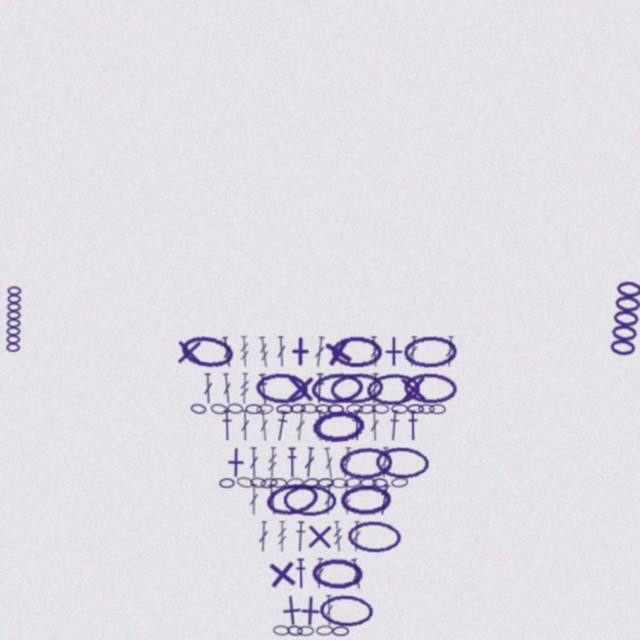chain: (264, 480, 320, 519), (179, 333, 236, 371), (329, 371, 385, 406), (310, 371, 365, 406), (338, 446, 393, 480), (366, 372, 421, 406), (311, 409, 365, 443), (319, 594, 374, 627), (347, 520, 402, 553), (375, 446, 430, 479), (403, 372, 458, 405), (403, 335, 458, 368), (255, 372, 308, 405), (283, 484, 337, 516), (311, 558, 364, 590), (340, 484, 392, 516), (331, 336, 383, 367), (236, 476, 254, 489), (344, 476, 362, 489), (260, 477, 278, 489), (286, 477, 304, 489), (210, 403, 228, 415), (256, 403, 274, 415), (358, 403, 376, 415), (303, 477, 320, 489), (190, 403, 207, 415), (273, 625, 290, 636), (316, 625, 333, 636), (391, 477, 408, 488), (301, 403, 318, 414), (372, 403, 389, 414), (287, 625, 303, 636), (250, 477, 266, 488), (227, 403, 243, 414), (290, 403, 306, 414), (297, 626, 314, 636), (332, 626, 349, 636), (270, 478, 287, 488), (317, 478, 334, 488), (331, 478, 348, 488), (360, 478, 377, 488), (245, 404, 262, 414), (276, 404, 293, 414), (327, 404, 344, 414), (346, 404, 363, 414), (391, 404, 408, 414), (407, 404, 424, 414), (418, 404, 435, 414), (429, 404, 446, 414), (219, 478, 235, 488), (372, 478, 388, 488), (315, 404, 331, 414)
double: (349, 558, 364, 590), (322, 447, 336, 479), (220, 336, 234, 368), (313, 336, 326, 368), (266, 484, 279, 515), (303, 447, 316, 478), (340, 447, 353, 478), (294, 410, 307, 441), (258, 410, 270, 441), (202, 373, 214, 404), (221, 373, 233, 404), (407, 336, 419, 367), (444, 336, 456, 367), (314, 558, 325, 589), (258, 521, 269, 552), (351, 521, 362, 552), (323, 484, 334, 515), (379, 447, 390, 478), (369, 410, 380, 441), (369, 373, 380, 404), (276, 336, 287, 367), (369, 336, 380, 367), (324, 595, 334, 626), (249, 484, 259, 515), (249, 447, 259, 478), (240, 410, 250, 441), (315, 410, 325, 441)
enseble_chain: (607, 280, 640, 359), (5, 286, 22, 353)
half_double: (376, 484, 393, 516), (273, 410, 290, 442), (256, 373, 271, 405), (387, 410, 401, 441), (294, 521, 307, 552), (313, 373, 326, 404), (295, 558, 307, 589), (286, 447, 298, 478), (221, 410, 233, 441), (351, 410, 363, 441), (407, 410, 419, 441)
single: (320, 334, 356, 370), (265, 557, 299, 591), (275, 594, 308, 627), (294, 595, 326, 627), (397, 373, 429, 405), (173, 336, 205, 368), (304, 521, 335, 552), (285, 373, 316, 404), (285, 336, 316, 367), (378, 336, 409, 367), (221, 447, 251, 478)
treble: (257, 336, 271, 368), (332, 521, 344, 552), (341, 484, 352, 515), (267, 447, 278, 478), (239, 373, 250, 404), (239, 336, 250, 367), (277, 521, 287, 552)
